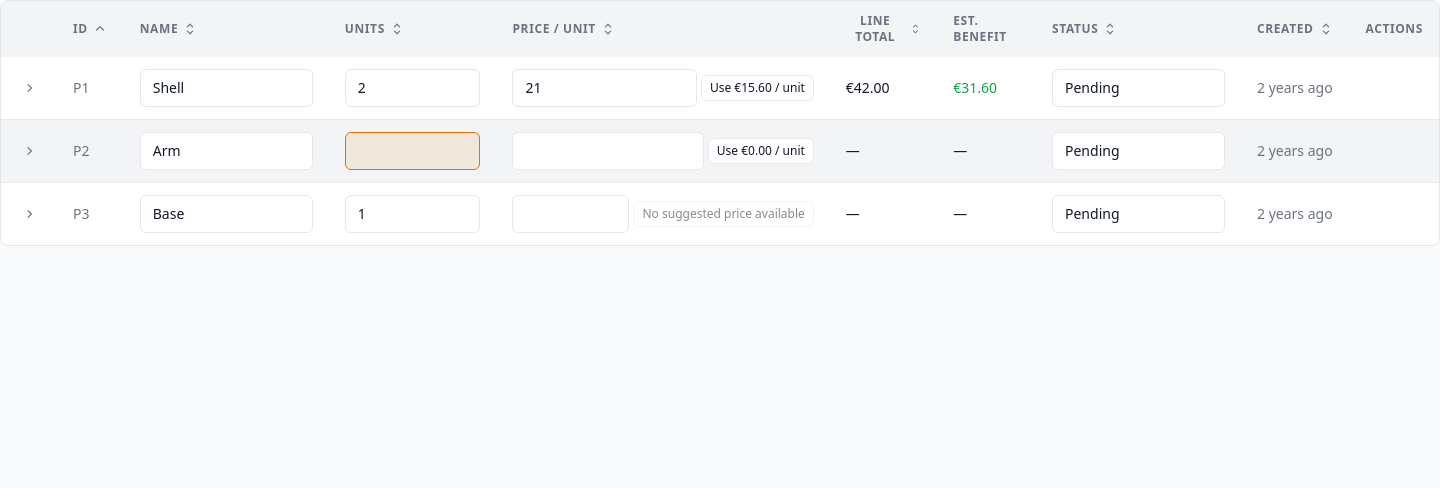
Test: PiecesTable › expands a piece to reveal its material lines, and collapses it again
The width and height of the screenshot is (1440, 488).
Click the button named "Expand piece P1": point(29, 88) x1=17 y1=76 x2=41 y2=100
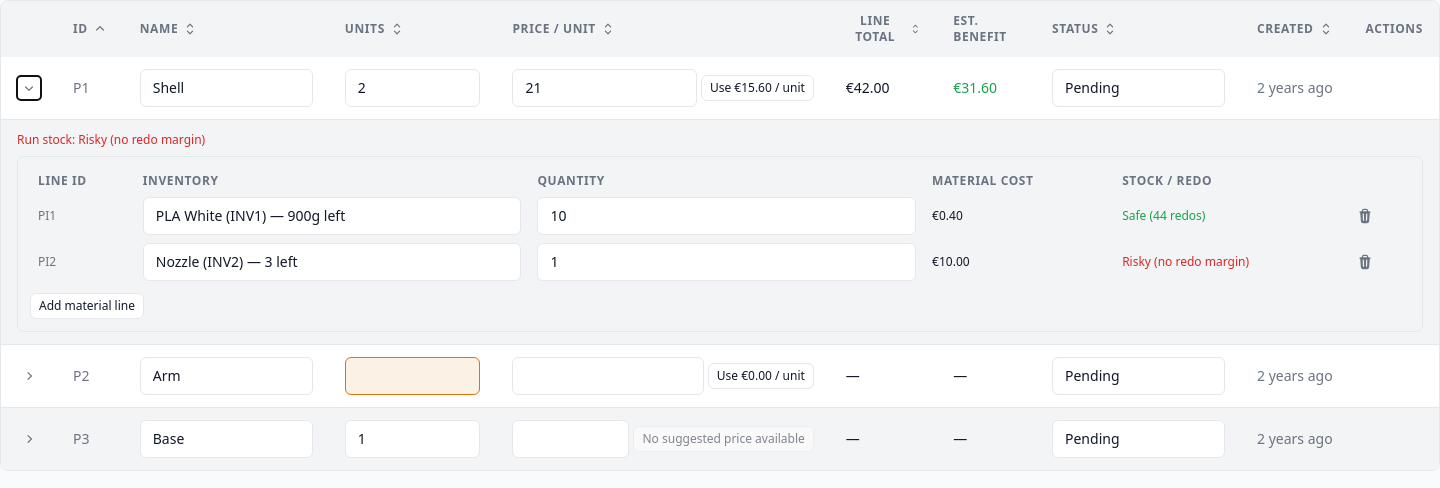
Result: the row with test id "piece-item-row-PI1" is shown at x1=30 y1=193 x2=1410 y2=239
Click the button named "Collapse piece P1": point(29, 88) x1=17 y1=76 x2=41 y2=100
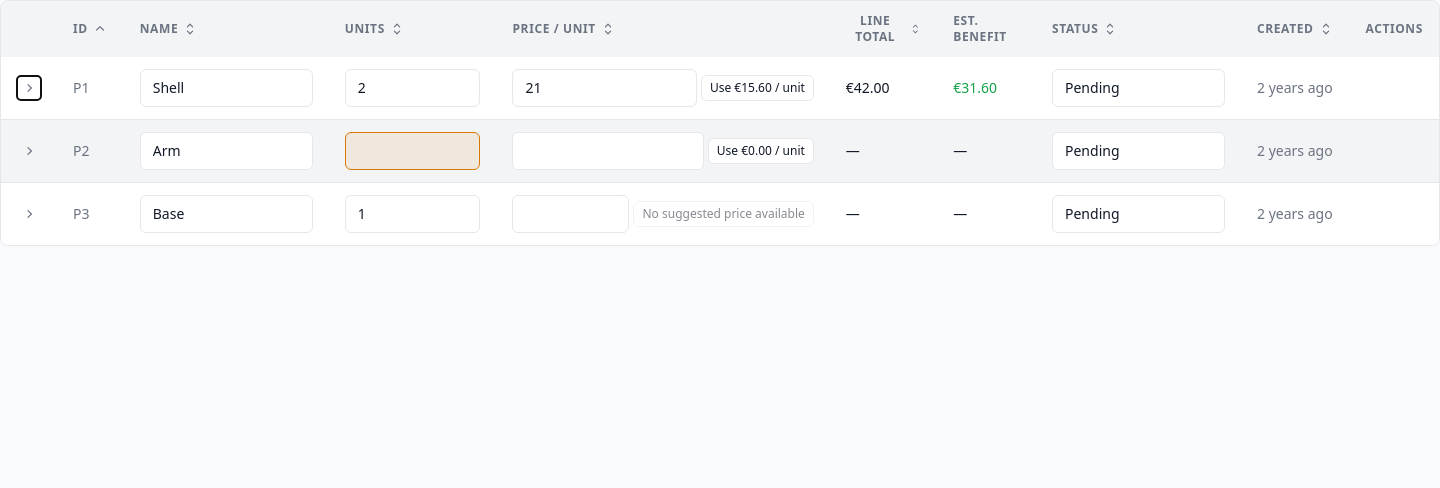
Result: the row with test id "piece-item-row-PI1" is gone
